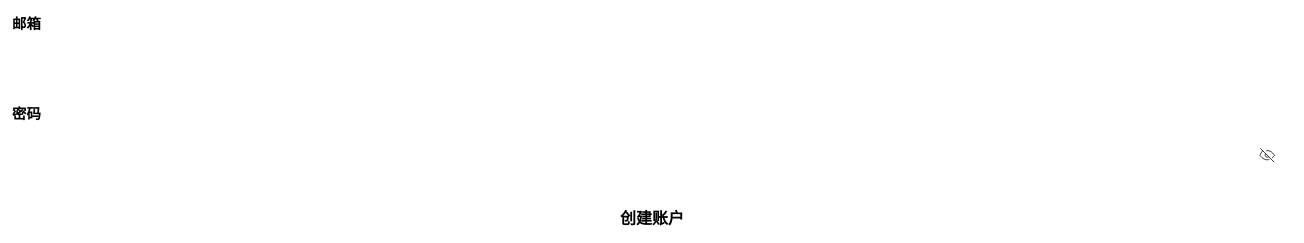
Scenario: authentication forms › reveals and re-hides the signup password without changing it
Step 1. Type "12345678" into the password field labelled "密码" → (652, 155), box [12, 132, 1292, 178]
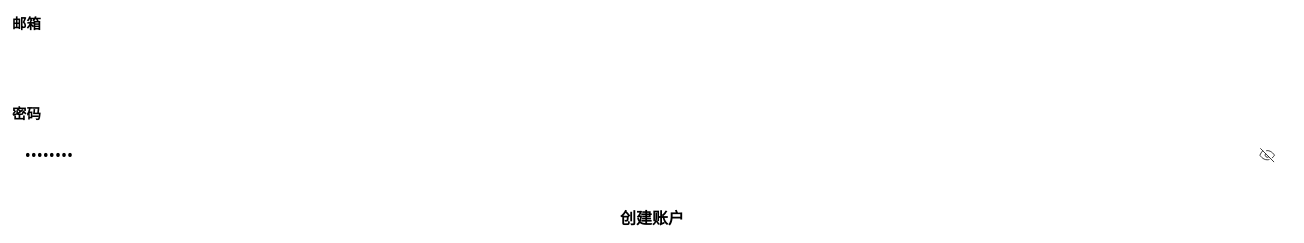
Step 2. Click the button named "显示密码" → (1267, 155), box [1245, 133, 1289, 177]
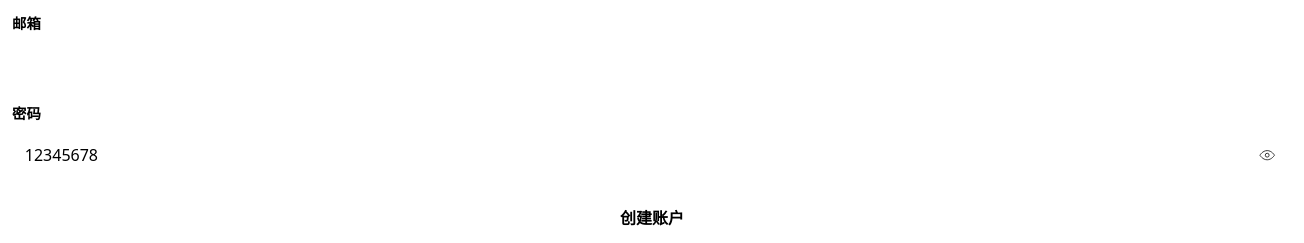
Check: the field labelled "密码" shows its text, box [12, 132, 1292, 178]
Check: the button named "隐藏密码" is shown, box [1245, 133, 1289, 177]
